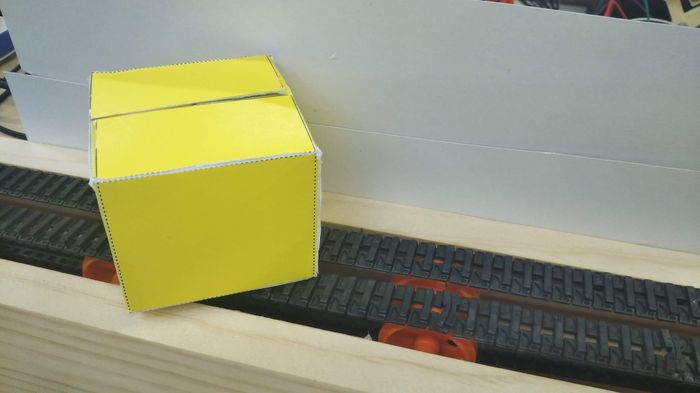box4: (85, 48, 325, 314)
